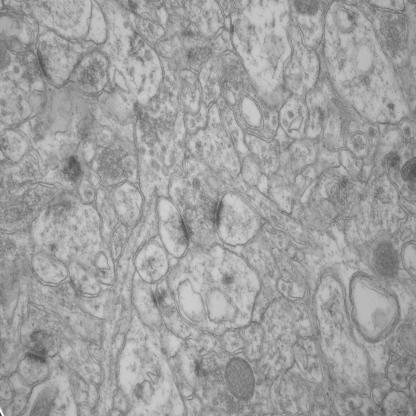mitochondria: (224, 357, 256, 403), (374, 242, 400, 279)
